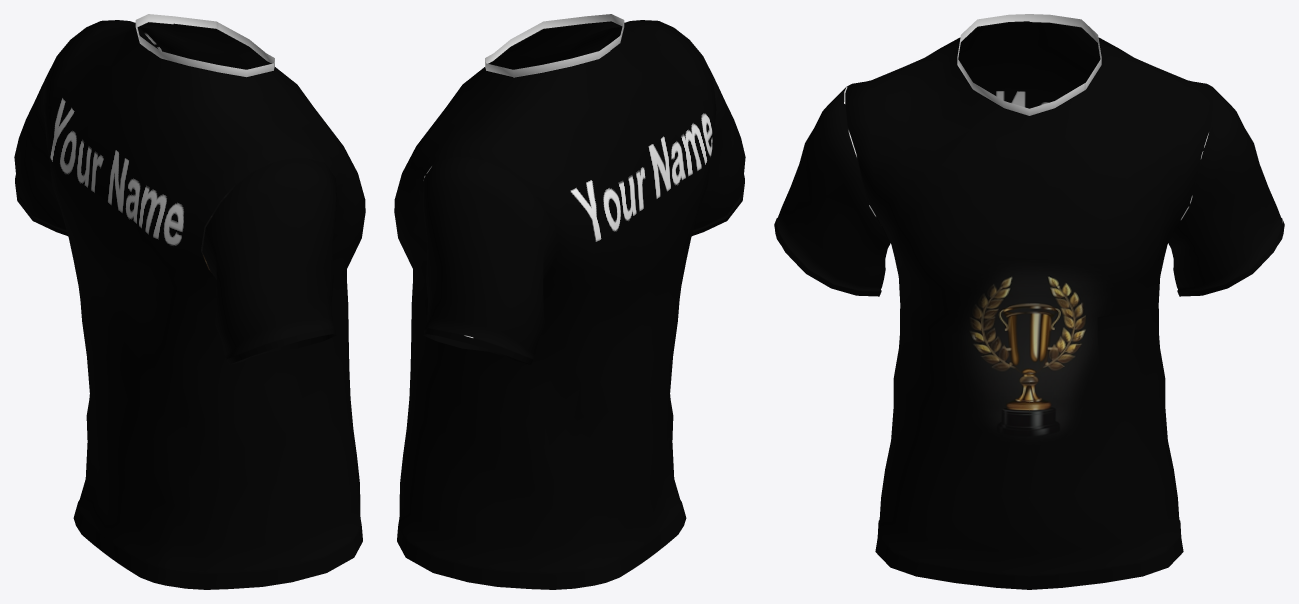
Rendered from dirt2.gltf.
3 renders of one model, left to right at view 1: azimuth 30°, elevation 25°; view 2: azimuth 150°, elevation 25°; view 3: azimuth 270°, elevation 25°, orthographic.
Visible parts, largest first — view 1: Plane; view 2: Plane; view 3: Plane.
Boxes of the visible parts, box(x1,y1,x2,y2) form: Plane: box(14, 14, 365, 589); Plane: box(394, 14, 745, 589); Plane: box(774, 14, 1284, 589).
Size of the model in its own units: 0.5337 by 1.1 by 1.02.
1 material, 1 textured.
